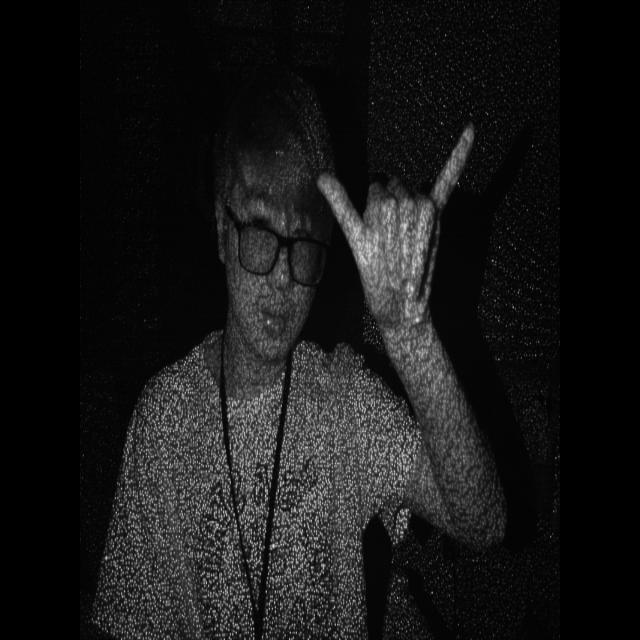Y: (308, 109, 486, 338)
